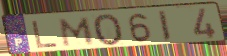4: (191, 6, 218, 41)
6: (127, 12, 154, 44)
I: (157, 9, 173, 43)
L: (31, 19, 61, 49)
M: (59, 16, 96, 48)
O: (92, 13, 126, 48)
